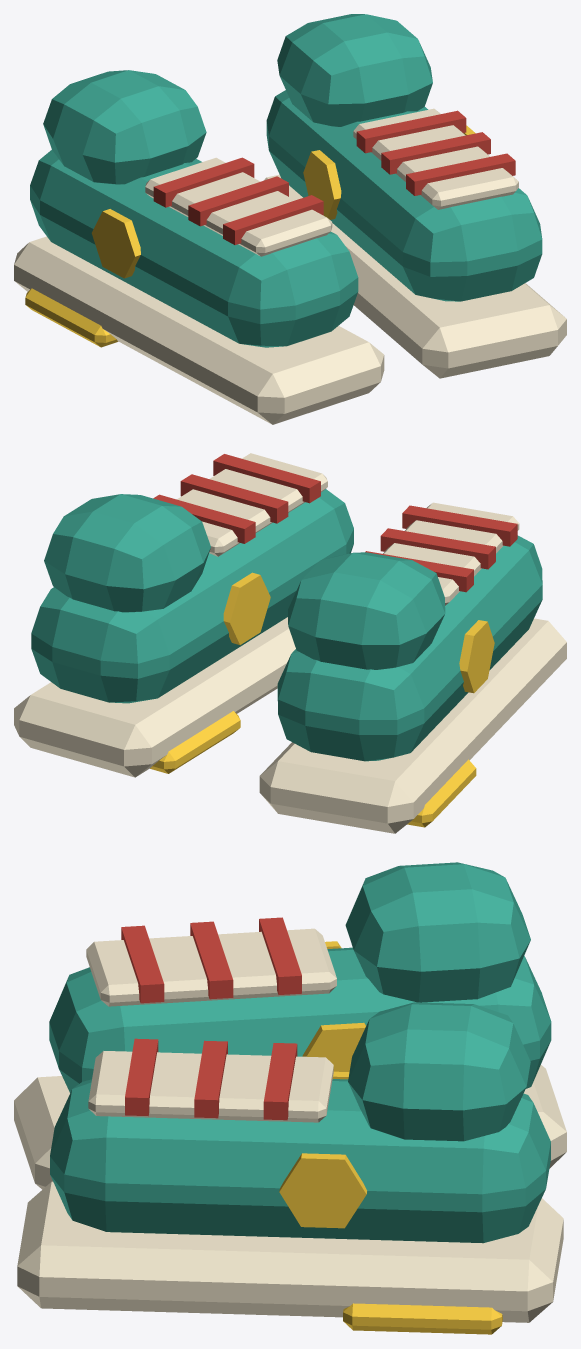
Rendered from shoes.glb.
The picture shows the model from 3 angles, top to bottom: view 1: azimuth 30°, elevation 25°; view 2: azimuth 150°, elevation 25°; view 3: azimuth 270°, elevation 25°; orthographic projection. The views are drawn at different scales.
Parts seen in each view (by area): view 1: shoes; view 2: shoes; view 3: shoes.
Part boxes in pixels (box(x1,y1,x2,y2)): shoes: box(14, 14, 566, 424); shoes: box(14, 453, 566, 833); shoes: box(14, 862, 566, 1334).
Bounding box in the file's own units: 0.2813 × 0.1515 × 0.2779.
